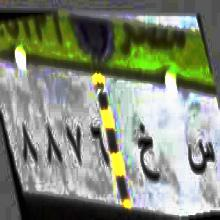6: (88, 119, 110, 174)
7: (66, 117, 82, 173)
8: (42, 117, 64, 176), (20, 119, 39, 173)
khaa: (136, 120, 162, 198)
seen: (186, 128, 216, 183)
